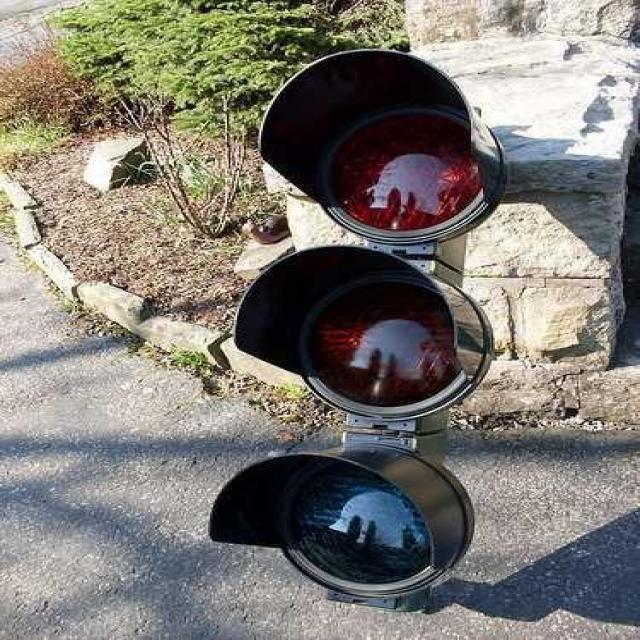red_light: (226, 50, 482, 608), (245, 51, 503, 245), (245, 248, 492, 434), (228, 444, 479, 612)
